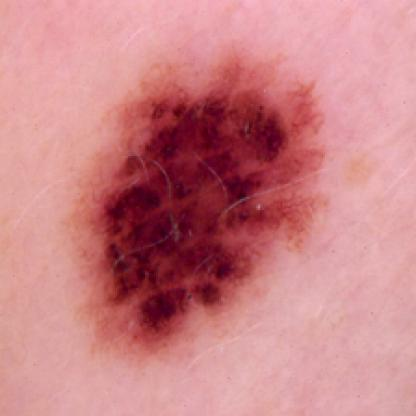benign: (87, 70, 338, 340)
